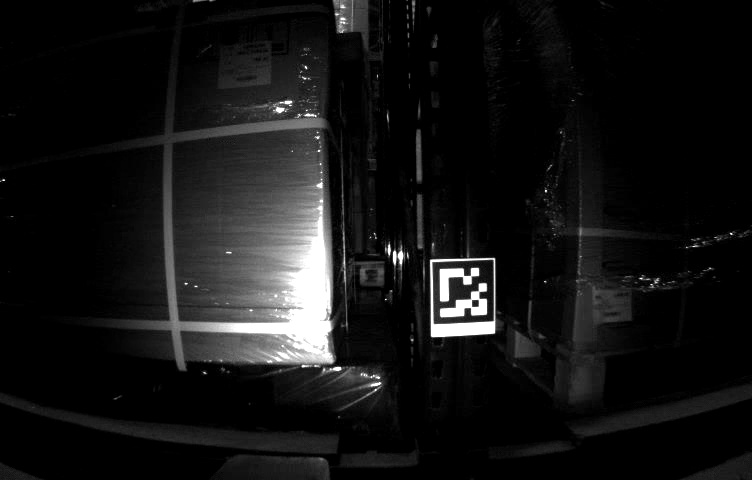True Barcode: (219, 45, 270, 89)
